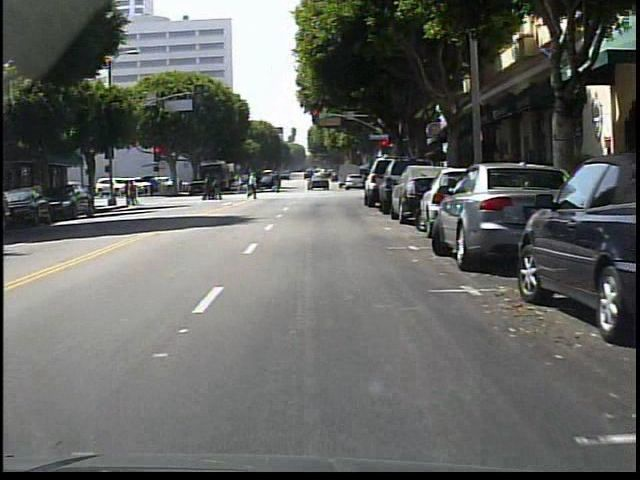person: (240, 170, 262, 202)
